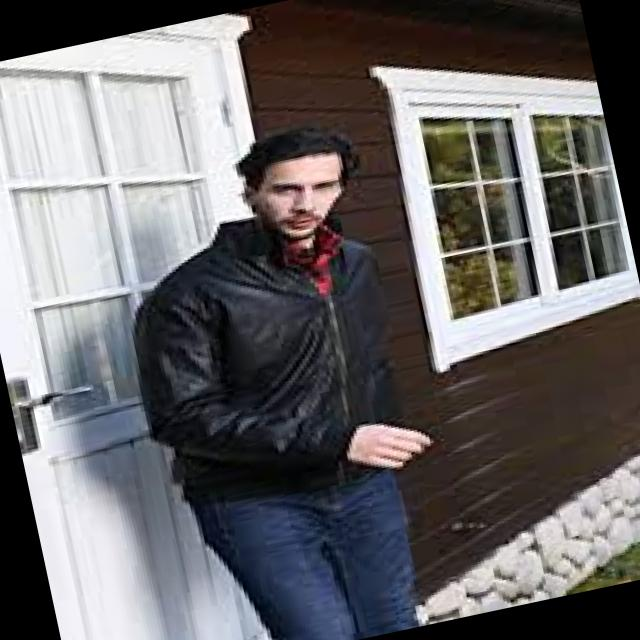Jacket: (126, 207, 430, 514)
